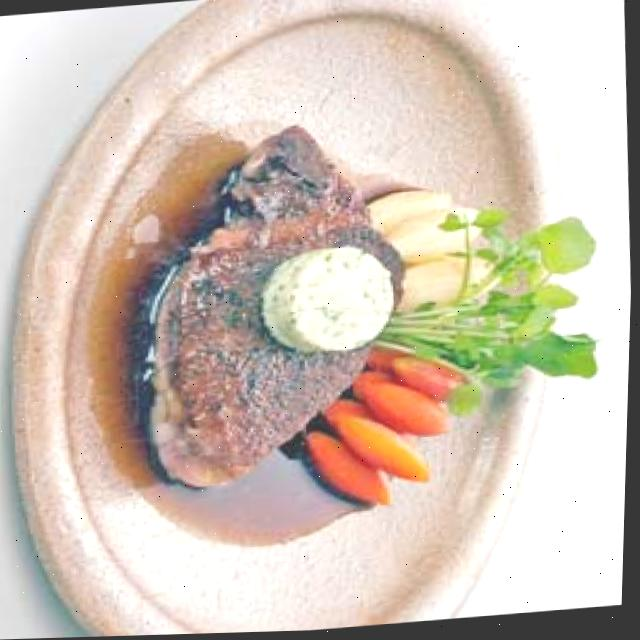牛肉菜式: (114, 109, 412, 490)
